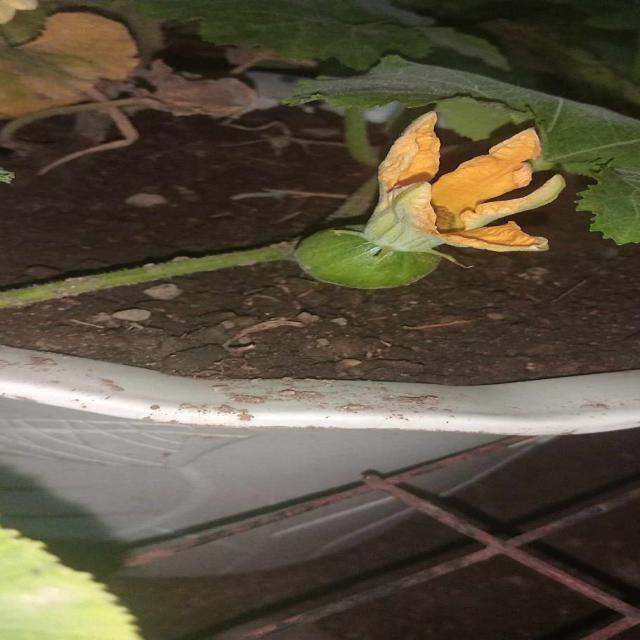flower: (338, 107, 579, 259)
squash: (293, 226, 444, 290)
